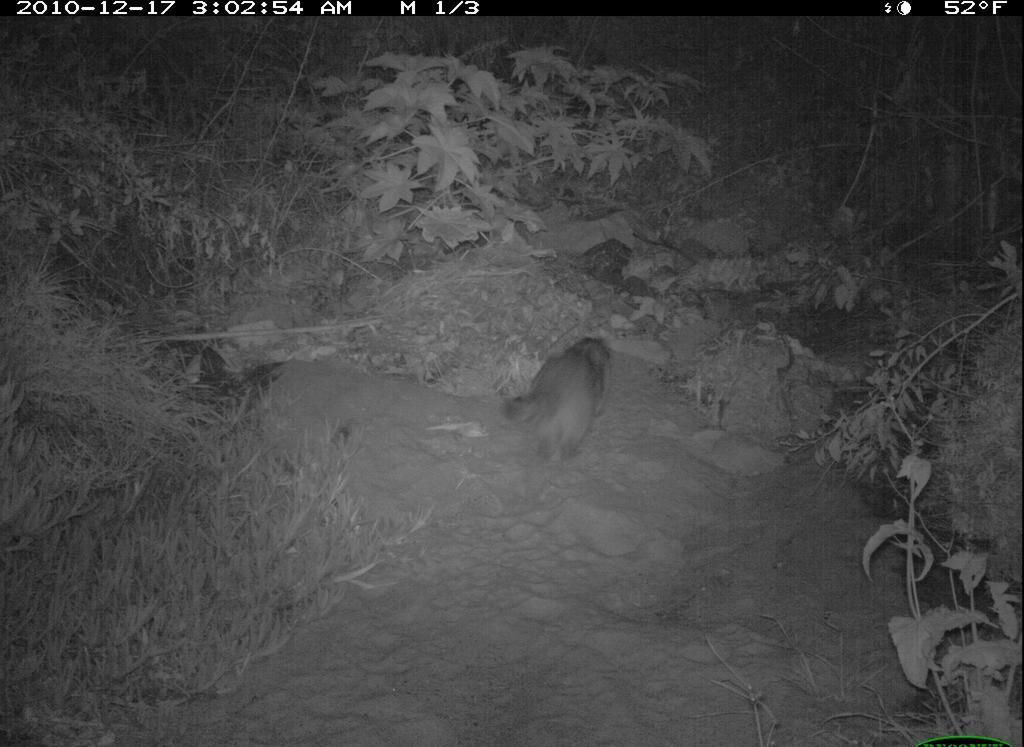raccoon: (500, 324, 625, 486)
